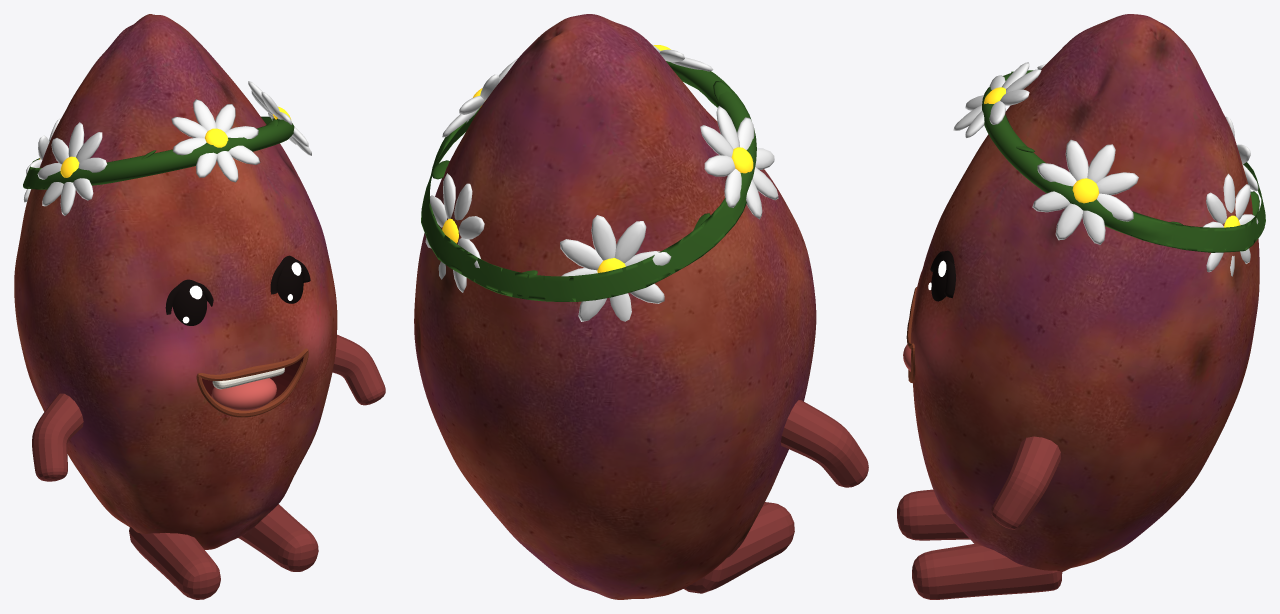
Rendered from potato-sweet.glb.
3 renders of one model, left to right at view 1: azimuth 30°, elevation 25°; view 2: azimuth 150°, elevation 25°; view 3: azimuth 270°, elevation 25°, orthographic. The views are drawn at different scales.
Parts seen in each view (by area): view 1: Body, Crown_Petals, Crown_Vine, Leg_R, Arm_R, Leg_L, Arm_L, Lips, Tongue, Pupil_R, Pupil_L, Crown_Centers (+1 smaller); view 2: Body, Crown_Petals, Crown_Vine, Arm_R, Leg_R, Crown_Centers, Crown_Leaves; view 3: Body, Crown_Petals, Crown_Vine, Leg_L, Arm_L, Leg_R, Crown_Centers, Pupil_L.
Part boxes in pixels (x1,y1,x2,y2): Body: [14, 14, 337, 549]; Crown_Petals: [23, 81, 311, 215]; Crown_Vine: [23, 116, 294, 189]; Leg_R: [129, 526, 220, 599]; Arm_R: [32, 393, 83, 481]; Leg_L: [238, 504, 318, 571]; Arm_L: [332, 334, 385, 405]; Lips: [196, 348, 308, 417]; Tongue: [211, 378, 276, 410]; Pupil_R: [172, 279, 206, 325]; Pupil_L: [277, 255, 303, 303]; Crown_Centers: [39, 106, 291, 177]; Body: [414, 14, 816, 599]; Crown_Petals: [425, 44, 778, 321]; Crown_Vine: [421, 61, 756, 301]; Arm_R: [780, 400, 868, 487]; Leg_R: [683, 502, 794, 593]; Crown_Centers: [442, 45, 753, 272]; Crown_Leaves: [432, 81, 732, 274]; Body: [911, 14, 1259, 571]; Crown_Petals: [953, 62, 1258, 276]; Crown_Vine: [982, 70, 1265, 252]; Leg_L: [912, 543, 1062, 599]; Arm_L: [991, 436, 1060, 529]; Leg_R: [897, 489, 969, 540]; Crown_Centers: [984, 87, 1240, 227]; Pupil_L: [931, 250, 954, 301].
Size of the model in its own units: 1.29 by 1.76 by 1.06.
Materials: 10 (1 with a texture image).
